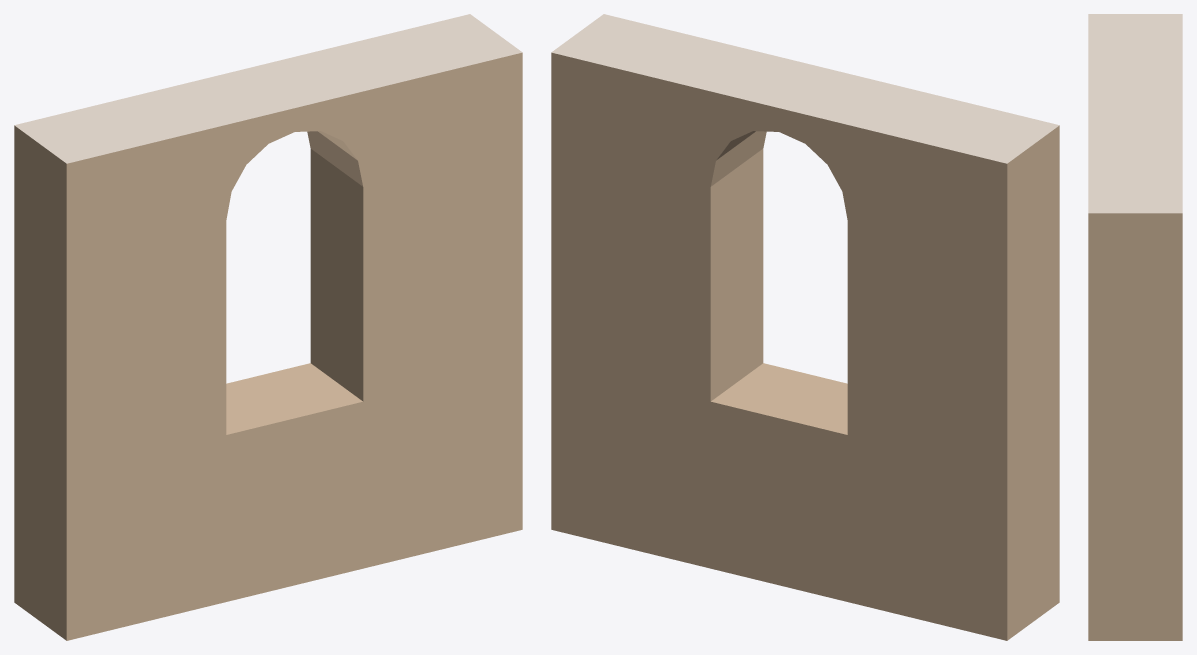
Rendered from Wall_Straight_Window.obj.
3 views of the same model, side by side, from view 1: azimuth 30°, elevation 25°; view 2: azimuth 150°, elevation 25°; view 3: azimuth 270°, elevation 25° (orthographic). The views are drawn at different scales.
Visible parts, largest first — view 1: object1; view 2: object1; view 3: object1.
Boxes of the visible parts, bbox=[...] form: object1: bbox=[14, 14, 522, 640]; object1: bbox=[551, 14, 1059, 640]; object1: bbox=[1088, 14, 1182, 640].
Bounding box in the file's own units: 1 × 1 × 0.2.
